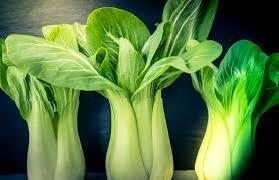Healthy-Pechay: (88, 0, 194, 177), (12, 17, 99, 177), (185, 35, 279, 164)
